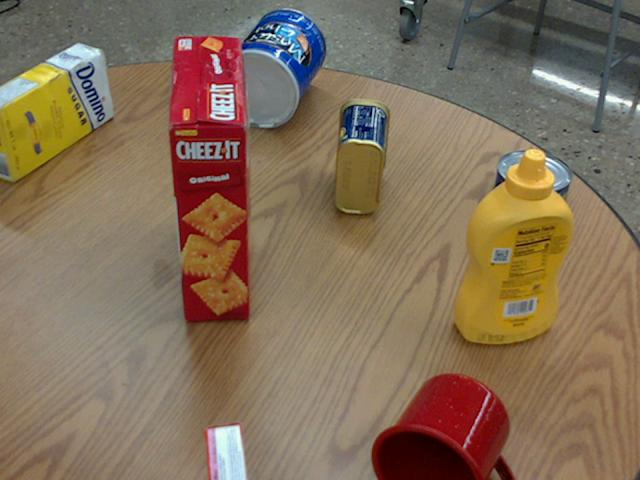cracker_box: (171, 37, 254, 320)
gelatin_box: (201, 424, 244, 479)
master_chef_can: (216, 8, 324, 127)
mug: (370, 374, 512, 479)
mustard_bottle: (452, 149, 573, 342)
potted_meat_can: (335, 98, 388, 213)
sugar_box: (0, 43, 111, 180)
tuna_fish_can: (492, 149, 570, 214)
